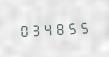eight: (54, 20, 65, 36)
five: (78, 18, 89, 35), (66, 19, 77, 35)
four: (42, 20, 53, 37)
three: (29, 21, 40, 37)
zero: (17, 21, 28, 38)
